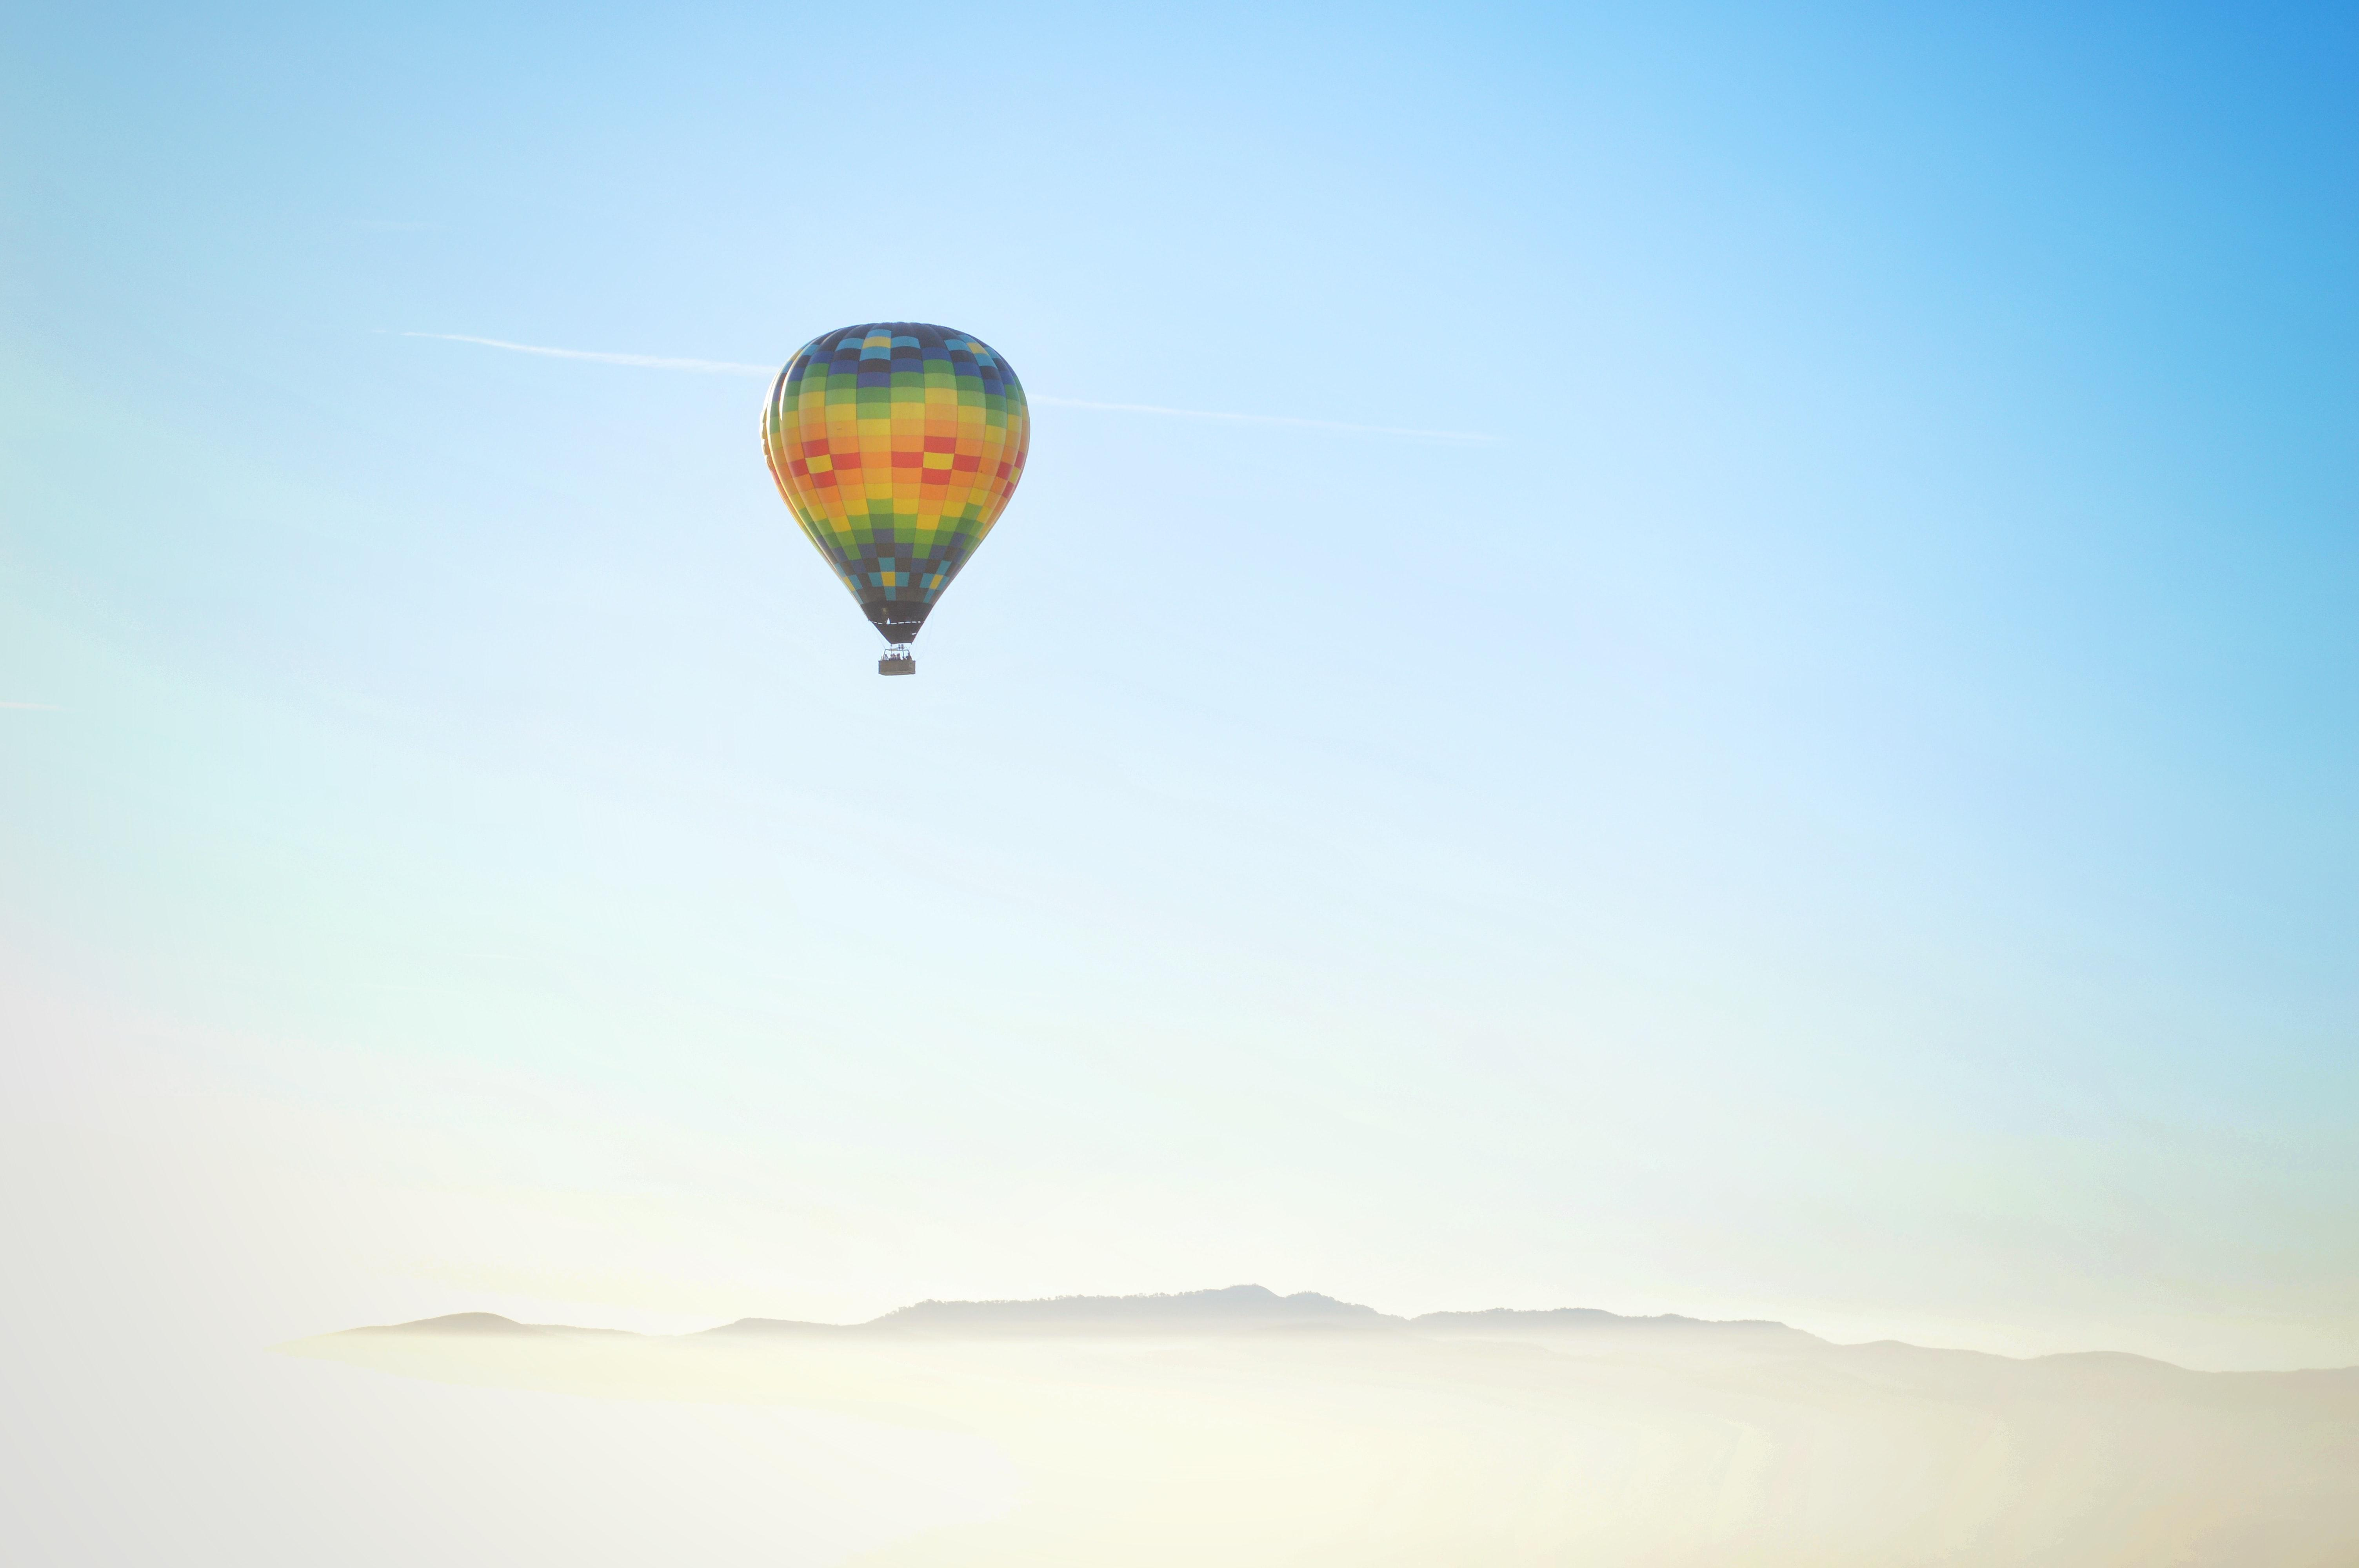hot air ballon: (759, 324, 1031, 674)
